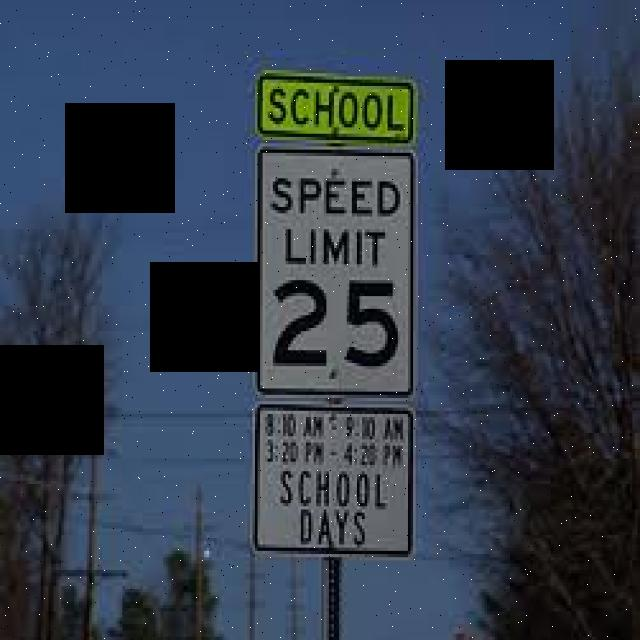regulatory: (250, 143, 422, 398), (252, 395, 419, 558)
warning: (247, 64, 431, 139)
